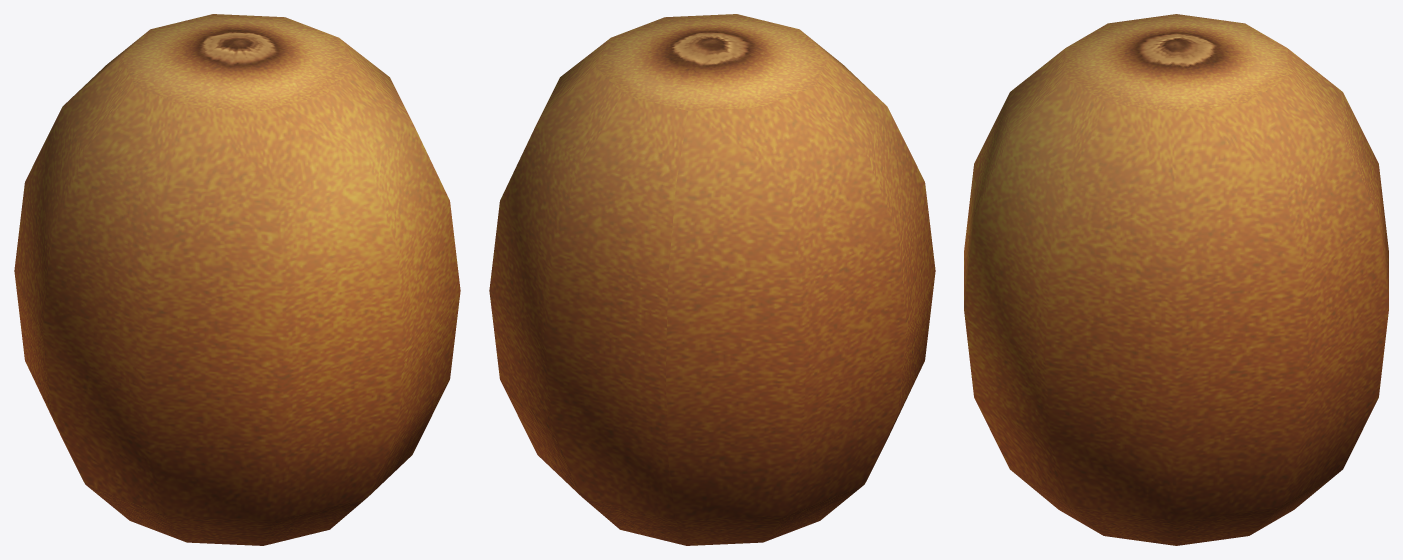
Rendered from Kiwi_Yellow_Whole.fbx.
3 views of the same model, side by side, from view 1: azimuth 30°, elevation 25°; view 2: azimuth 150°, elevation 25°; view 3: azimuth 270°, elevation 25° (orthographic).
Visible parts, largest first — view 1: Kiwi_Yellow_Whole; view 2: Kiwi_Yellow_Whole; view 3: Kiwi_Yellow_Whole.
Part boxes in pixels (left/top/right/bottom): Kiwi_Yellow_Whole: left=14, top=14, right=460, bottom=545; Kiwi_Yellow_Whole: left=489, top=14, right=935, bottom=545; Kiwi_Yellow_Whole: left=964, top=14, right=1388, bottom=545.
Size of the model in its own units: 23.64 by 27.83 by 22.49.
Materials: 1 (1 with a texture image).
